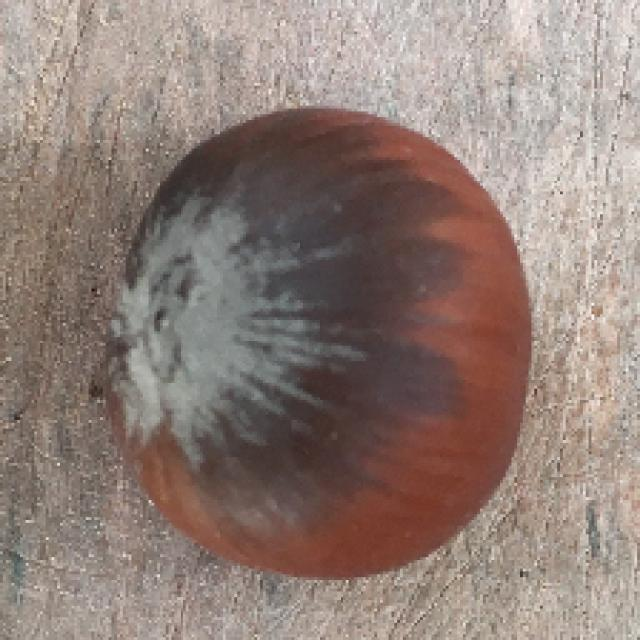qualityHazelnut: (123, 99, 532, 587)
